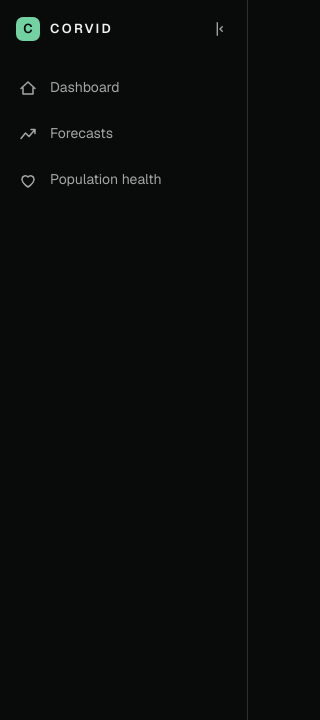
AppSidebar › still toggles when localStorage is blocked
The width and height of the screenshot is (320, 720).
Step 1. Click the button named "Collapse navigation" → (220, 29), box x1=205 y1=14 x2=235 y2=44
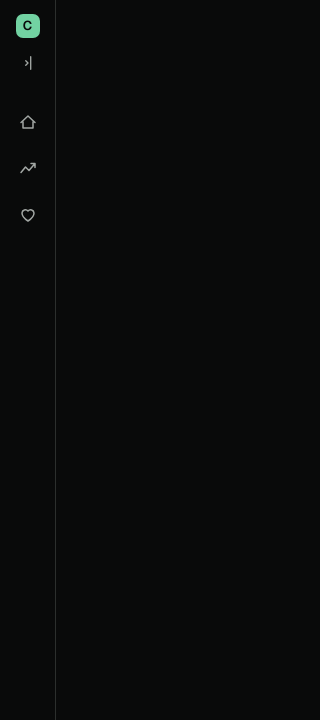
expect the button named "Expand navigation" is collapsed: met
Step 2. Click the button named "Expand navigation" → (28, 63), box x1=12 y1=48 x2=42 y2=78
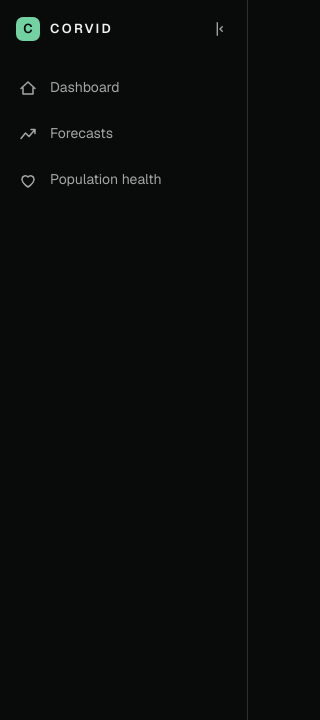
expect the button named "Collapse navigation" is expanded: met, box x1=205 y1=14 x2=235 y2=44
